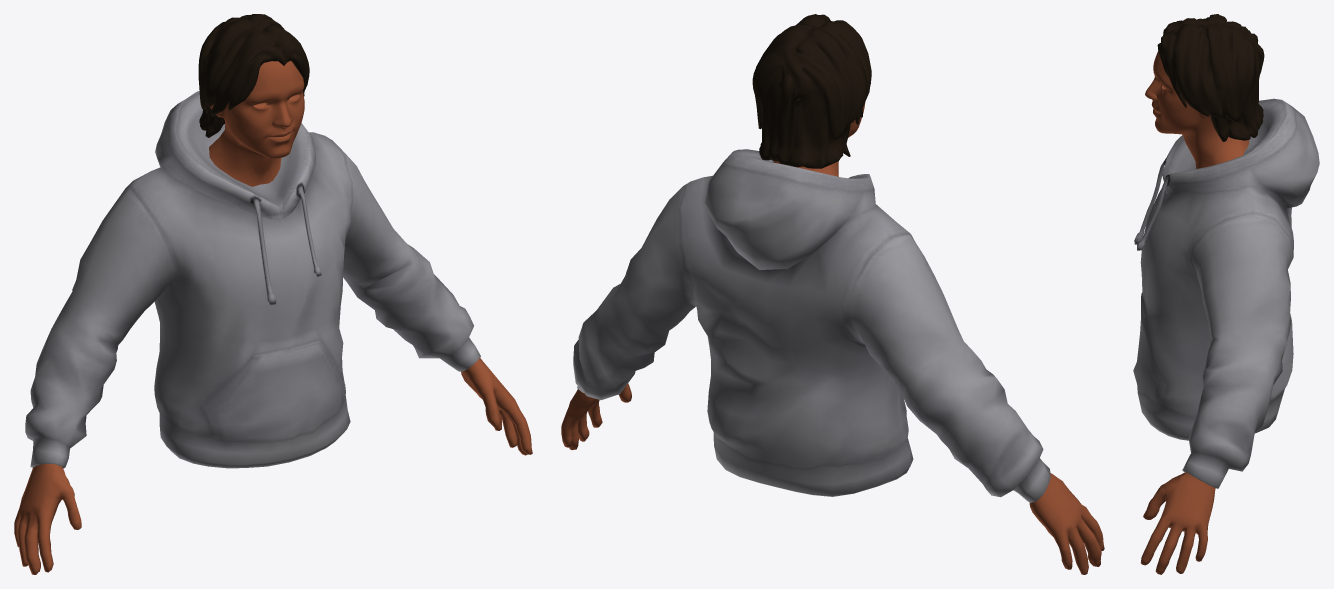
3 views of the same model, side by side, from view 1: azimuth 30°, elevation 25°; view 2: azimuth 150°, elevation 25°; view 3: azimuth 270°, elevation 25° (orthographic). The views are drawn at different scales.
Parts seen in each view (by area): view 1: Wolf3D_Outfit_Top.001, Wolf3D_Head.001, Wolf3D_Hair.001, Wolf3D_Body.007; view 2: Wolf3D_Outfit_Top.001, Wolf3D_Hair.001, Wolf3D_Body.007; view 3: Wolf3D_Outfit_Top.001, Wolf3D_Hair.001, Wolf3D_Body.007, Wolf3D_Head.001.
Boxes of the visible parts, left/top/right/bottom form: Wolf3D_Outfit_Top.001: left=25, top=91, right=480, bottom=468; Wolf3D_Head.001: left=209, top=61, right=304, bottom=186; Wolf3D_Hair.001: left=198, top=14, right=309, bottom=137; Wolf3D_Body.007: left=14, top=358, right=532, bottom=574; Wolf3D_Outfit_Top.001: left=573, top=149, right=1050, bottom=502; Wolf3D_Hair.001: left=752, top=14, right=871, bottom=168; Wolf3D_Body.007: left=561, top=383, right=1104, bottom=574; Wolf3D_Outfit_Top.001: left=1133, top=98, right=1319, bottom=488; Wolf3D_Hair.001: left=1157, top=14, right=1264, bottom=141; Wolf3D_Body.007: left=1140, top=472, right=1215, bottom=574; Wolf3D_Head.001: left=1145, top=51, right=1249, bottom=168.
Bounding box in the file's own units: 10.29 × 9.33 × 3.56.
Materials: 3 (2 with a texture image).
